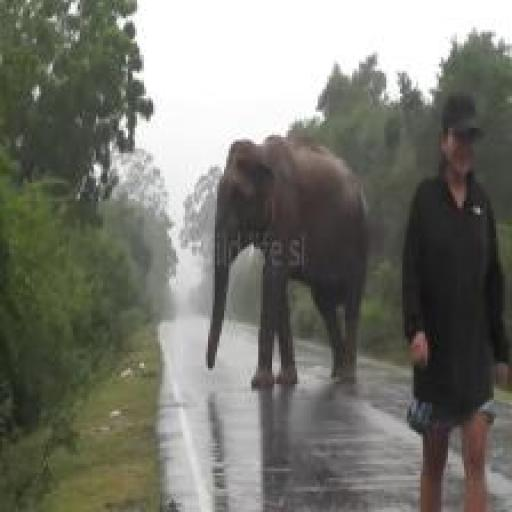Elephant: (206, 126, 370, 406)
